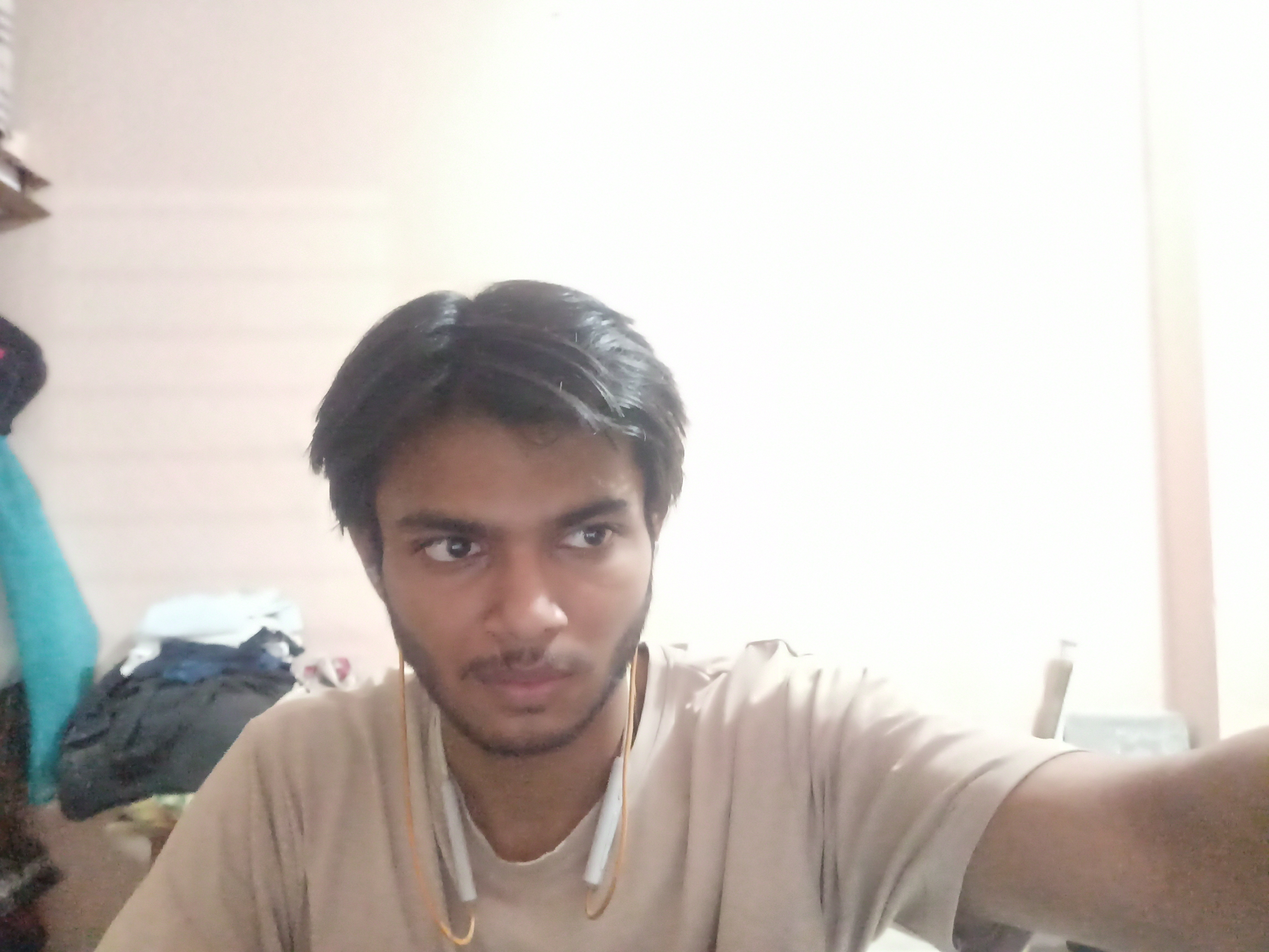Focused: (234, 322, 789, 822)
